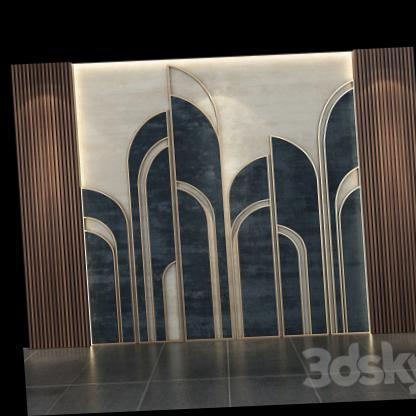Ceramic floor: (18, 336, 416, 416)
Wall Panel: (8, 48, 416, 348)
